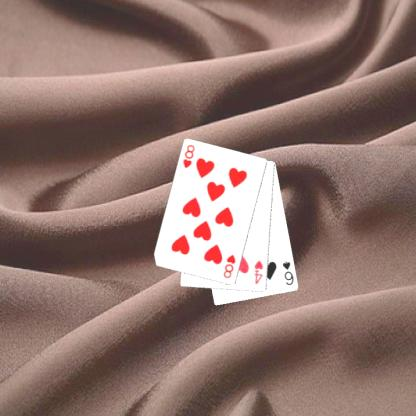4H: (252, 258, 264, 285)
6S: (280, 258, 295, 286)
8H: (221, 252, 237, 280), (180, 142, 196, 170)
